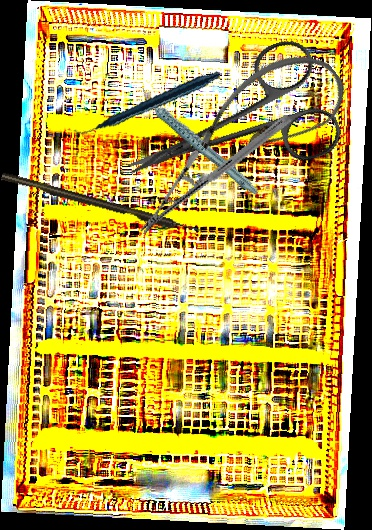Cannula: (187, 33, 357, 193)
Handpiece: (137, 67, 262, 216), (72, 41, 222, 164)
Hook Surgical: (0, 170, 202, 238)
Iris Scissors: (105, 33, 347, 222)
Needle Holder: (137, 79, 294, 270)
